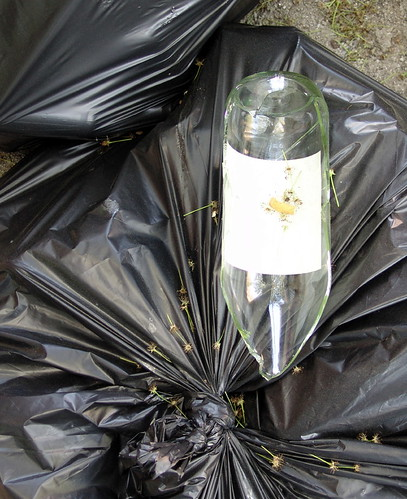trash: (2, 3, 407, 499)
